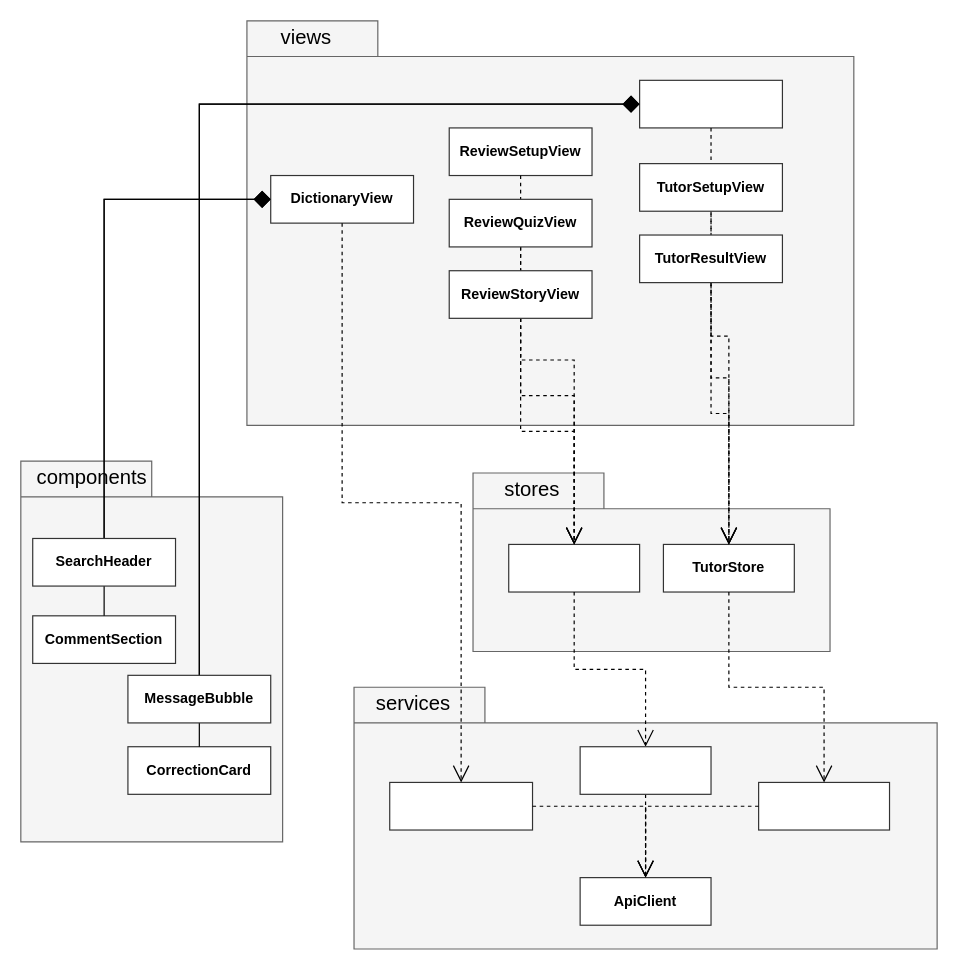
Image size: 958x970. Some labels were removed from this diagram. The centre of each missing label's shape, as x and y in pixels:
DictionaryService: (461,805)
ReviewService: (645,770)
ReviewStore: (574,567)
TutorChatView: (710,103)
TutorService: (823,805)
